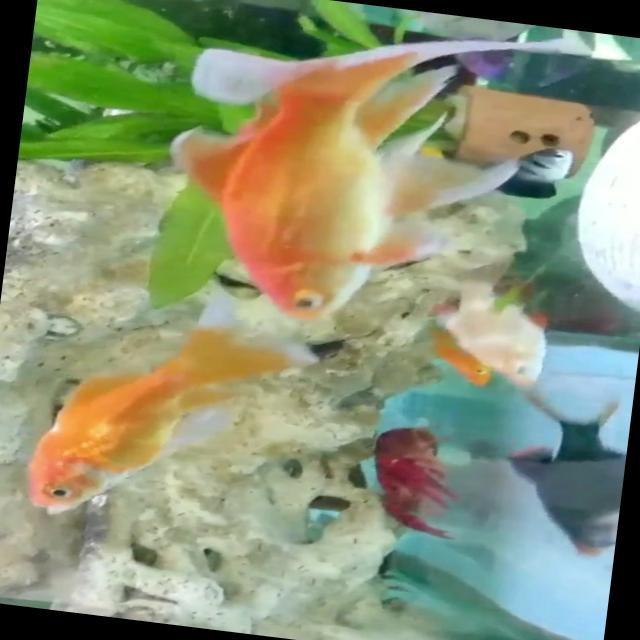GoldFish: (170, 11, 520, 344), (0, 268, 335, 546)
